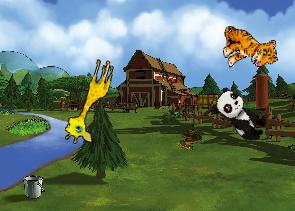giraffe: (61, 53, 116, 148)
panda: (207, 84, 273, 146)
tiger: (219, 20, 278, 72)
